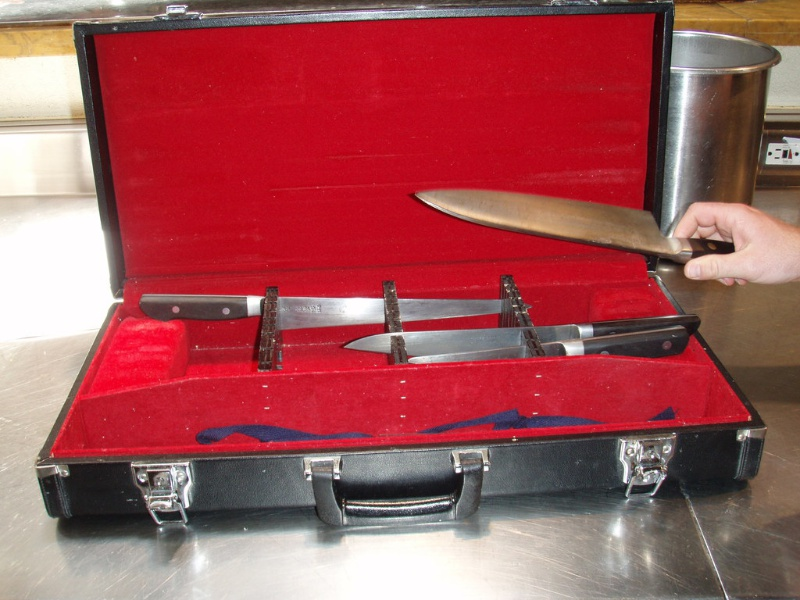knife: (409, 184, 793, 290), (336, 320, 707, 370), (135, 292, 547, 334)
